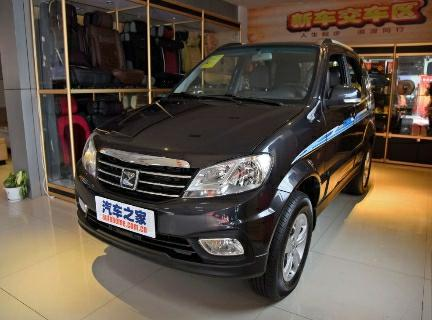car: (50, 29, 390, 304)
